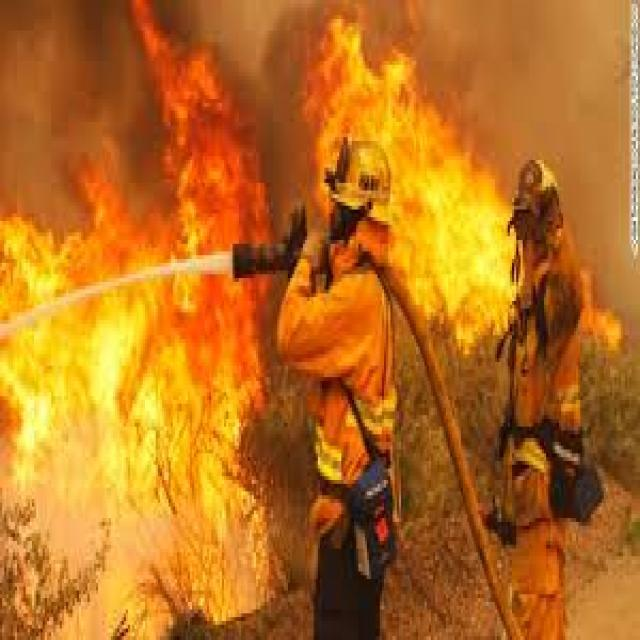Fire: (0, 194, 268, 637), (302, 16, 528, 338), (118, 6, 276, 394)
Smoke: (442, 9, 628, 205), (2, 0, 185, 193), (227, 4, 313, 202)
